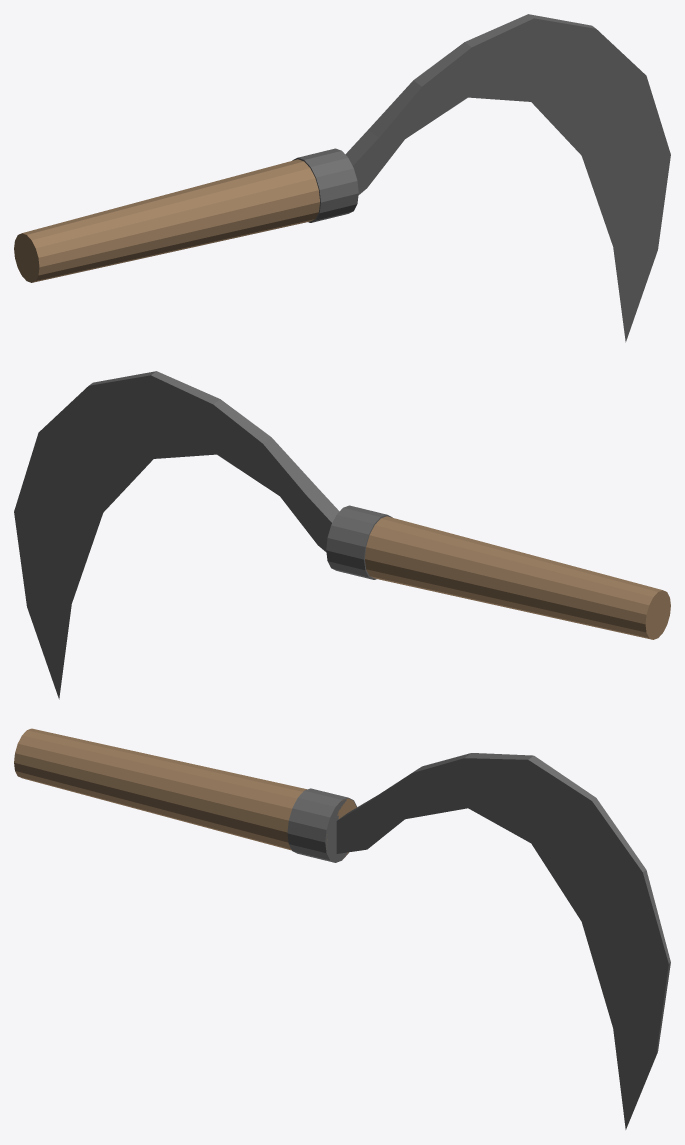
The model's file is gardensickle.glb.
3 views of the same model, one above another, from view 1: azimuth 30°, elevation 25°; view 2: azimuth 150°, elevation 25°; view 3: azimuth 330°, elevation 25° (orthographic).
Parts seen in each view (by area): view 1: Blade, Handle, Ferrule; view 2: Blade, Handle, Ferrule; view 3: Blade, Handle, Ferrule.
Boxes of the visible parts, left/top/right/bottom form: Blade: left=345, top=14, right=670, bottom=342; Handle: left=14, top=159, right=319, bottom=282; Ferrule: left=292, top=148, right=358, bottom=222; Blade: left=14, top=371, right=339, bottom=699; Handle: left=365, top=516, right=670, bottom=639; Ferrule: left=326, top=505, right=392, bottom=579; Blade: left=336, top=753, right=670, bottom=1129; Handle: left=14, top=728, right=356, bottom=859; Ferrule: left=287, top=788, right=356, bottom=862.
Bounding box in the file's own units: 1.02 × 0.53 × 0.092.
